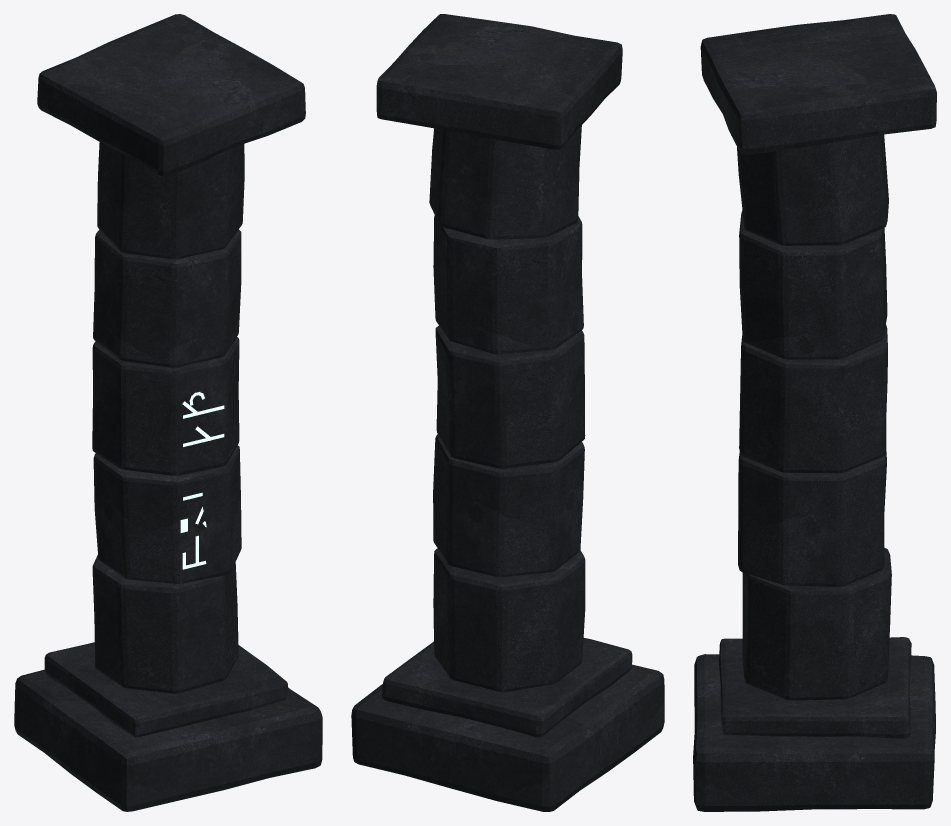
The model's file is Ruina_Pilar.fbx.
The picture shows the model from 3 angles, left to right: view 1: azimuth 30°, elevation 25°; view 2: azimuth 150°, elevation 25°; view 3: azimuth 270°, elevation 25°; orthographic projection. The views are drawn at different scales.
Visible parts, largest first — view 1: Ruina_Pilar_LOD0; view 2: Ruina_Pilar_LOD0; view 3: Ruina_Pilar_LOD0.
Part boxes in pixels (left/top/right/bottom): Ruina_Pilar_LOD0: left=14, top=14, right=322, bottom=811; Ruina_Pilar_LOD0: left=351, top=14, right=664, bottom=811; Ruina_Pilar_LOD0: left=693, top=14, right=936, bottom=811.
Size of what is drawn, in the model's own units: 1.73 by 5.51 by 1.7.
